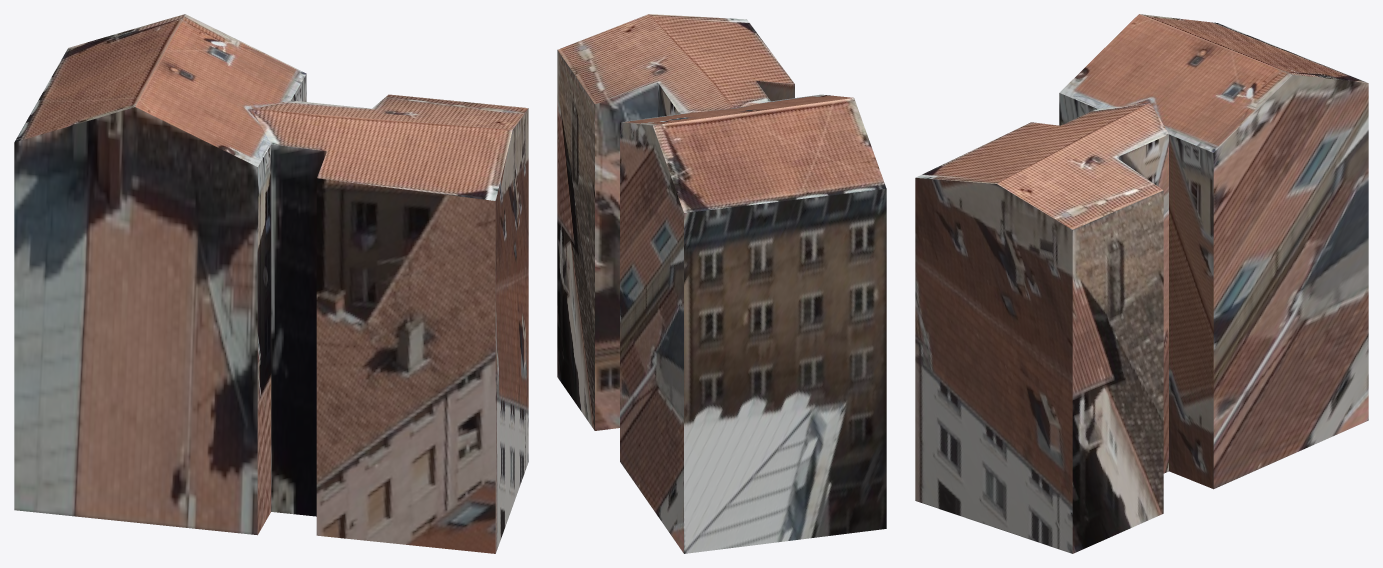
The picture shows the model from 3 angles, left to right: view 1: azimuth 30°, elevation 25°; view 2: azimuth 150°, elevation 25°; view 3: azimuth 270°, elevation 25°; orthographic projection. The views are drawn at different scales.
Parts seen in each view (by area): view 1: Z_UP; view 2: Z_UP; view 3: Z_UP.
Part boxes in pixels (x1,y1,x2,y2): Z_UP: (14, 14, 528, 553); Z_UP: (557, 14, 886, 553); Z_UP: (915, 14, 1368, 553).
Size of the model in its own units: 24.22 by 22.11 by 23.89.
2 materials, 1 textured.
